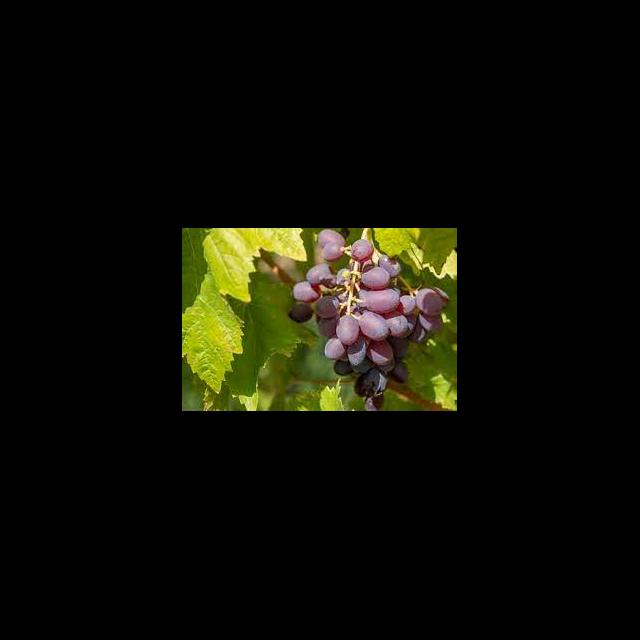grape: (288, 228, 450, 410)
